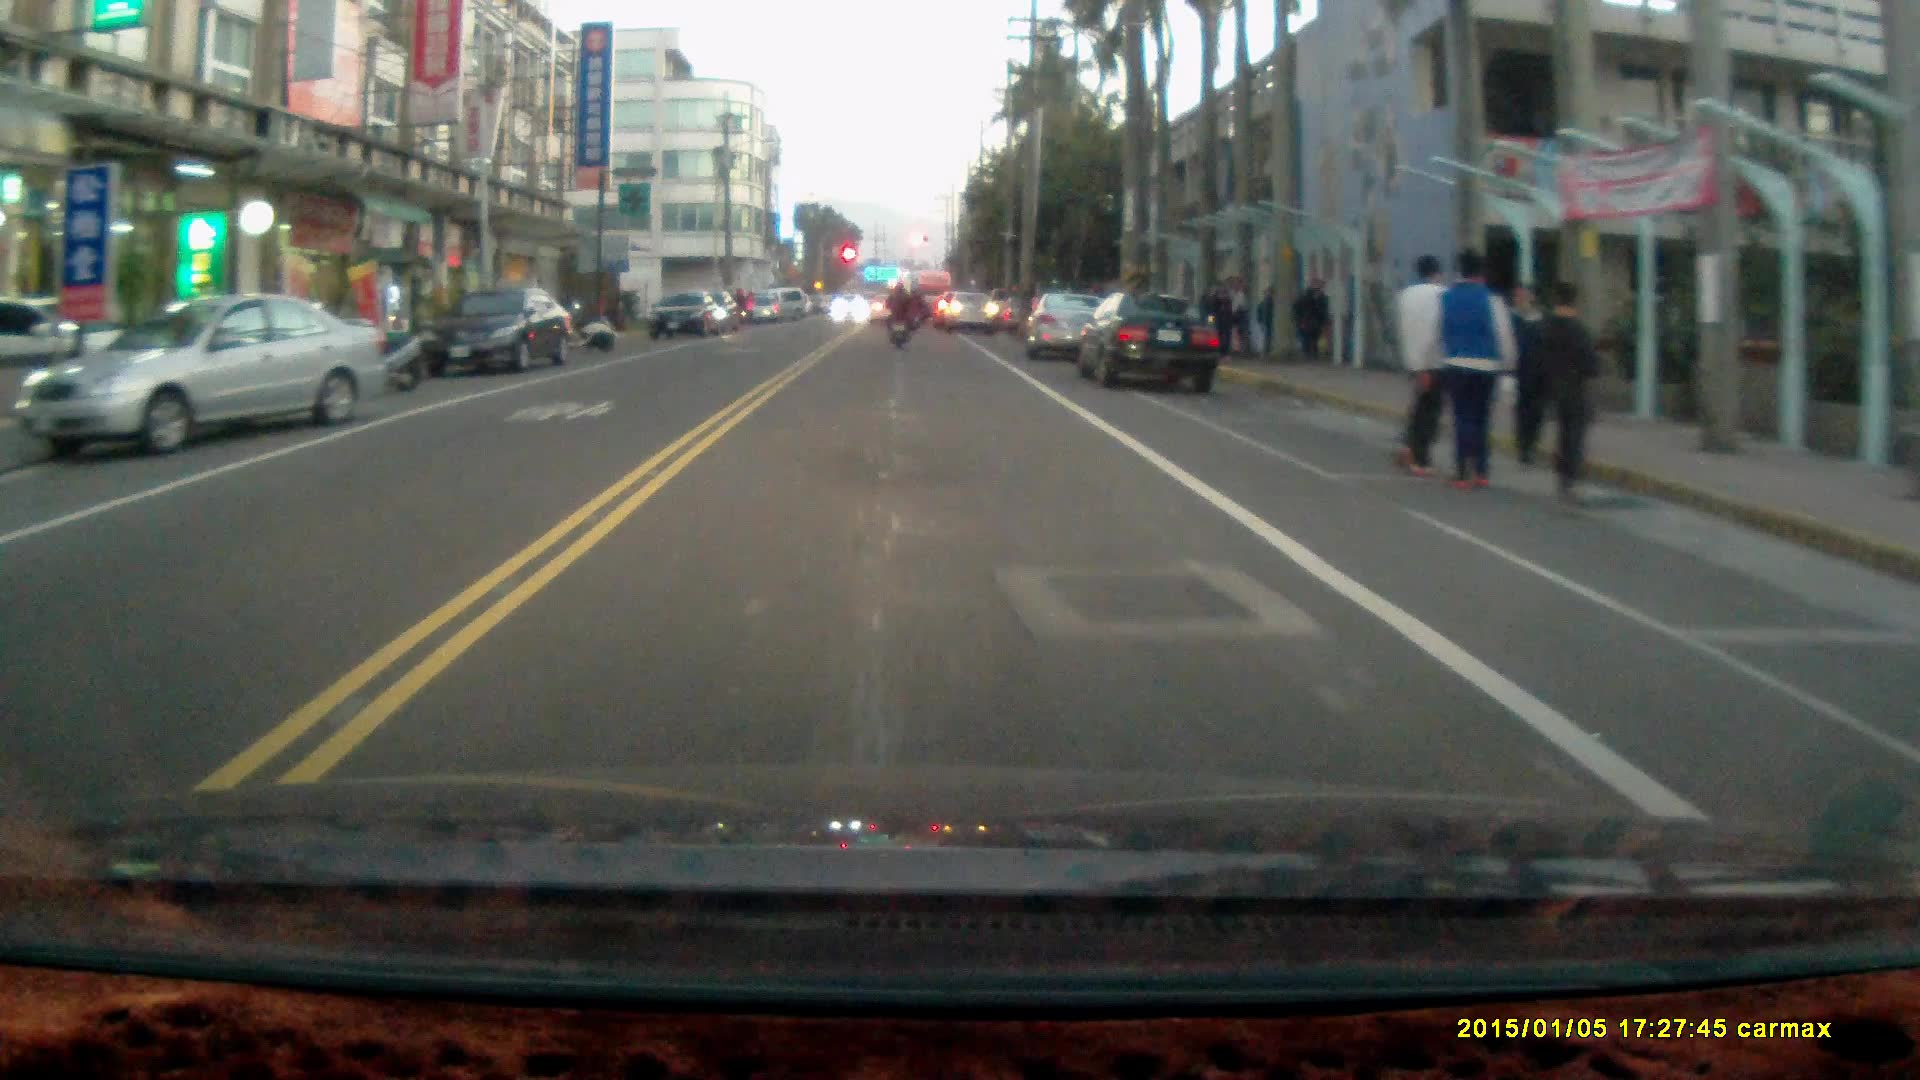pedestrian: (1420, 245, 1519, 495), (1534, 278, 1605, 511), (1389, 249, 1455, 481), (1503, 277, 1550, 470), (1294, 274, 1331, 366), (1199, 278, 1234, 361), (1218, 272, 1248, 362)
rider: (882, 279, 913, 350)
vehicle: (23, 298, 372, 459), (1078, 294, 1227, 397), (429, 285, 576, 376), (1027, 292, 1108, 364), (649, 287, 730, 341), (946, 291, 999, 336)
